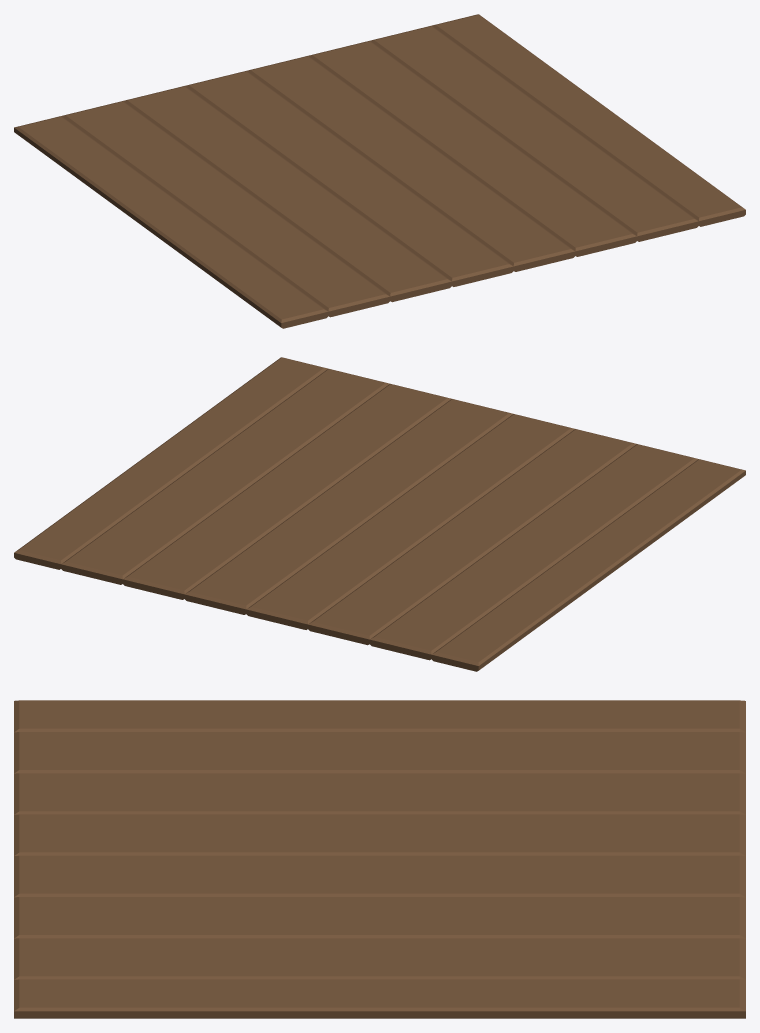
Rendered from Floor.fbx.
The picture shows the model from 3 angles, top to bottom: view 1: azimuth 30°, elevation 25°; view 2: azimuth 150°, elevation 25°; view 3: azimuth 270°, elevation 25°; orthographic projection. The views are drawn at different scales.
Visible parts, largest first — view 1: Floor; view 2: Floor; view 3: Floor.
Part boxes in pixels (x1,y1,x2,y2): Floor: (14, 14, 745, 328); Floor: (14, 357, 745, 671); Floor: (14, 700, 745, 1018).
Bounding box in the file's own units: 301 × 4.77 × 300.
